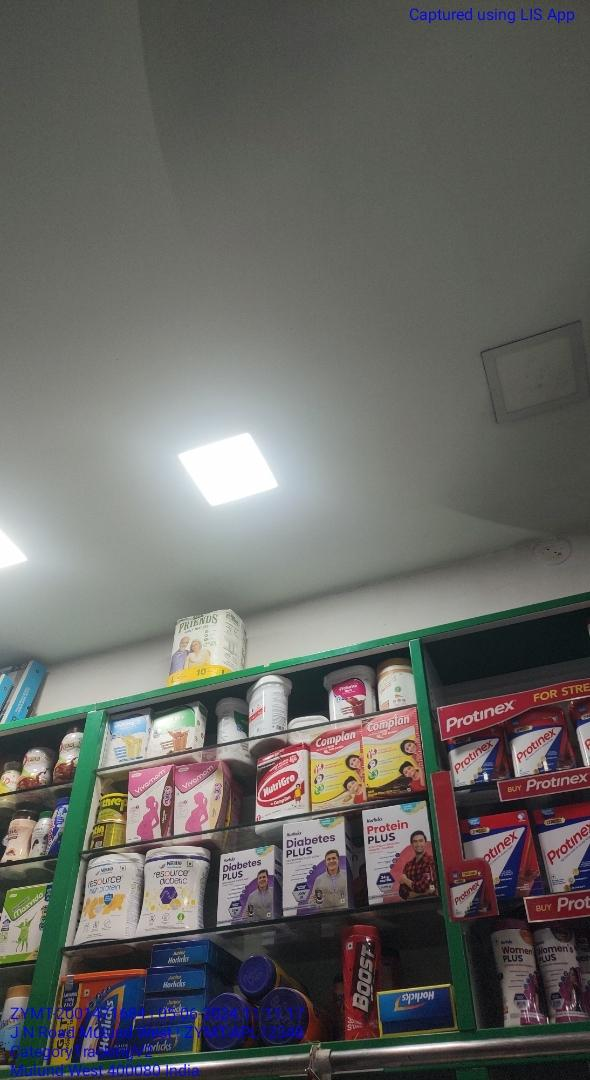HORLICK_MALT_1_KG_CONTAINER: (49, 970, 144, 1065)
PROTINEX_CHOCOLATE_400_G_JAR: (512, 706, 578, 777), (448, 721, 509, 787)
